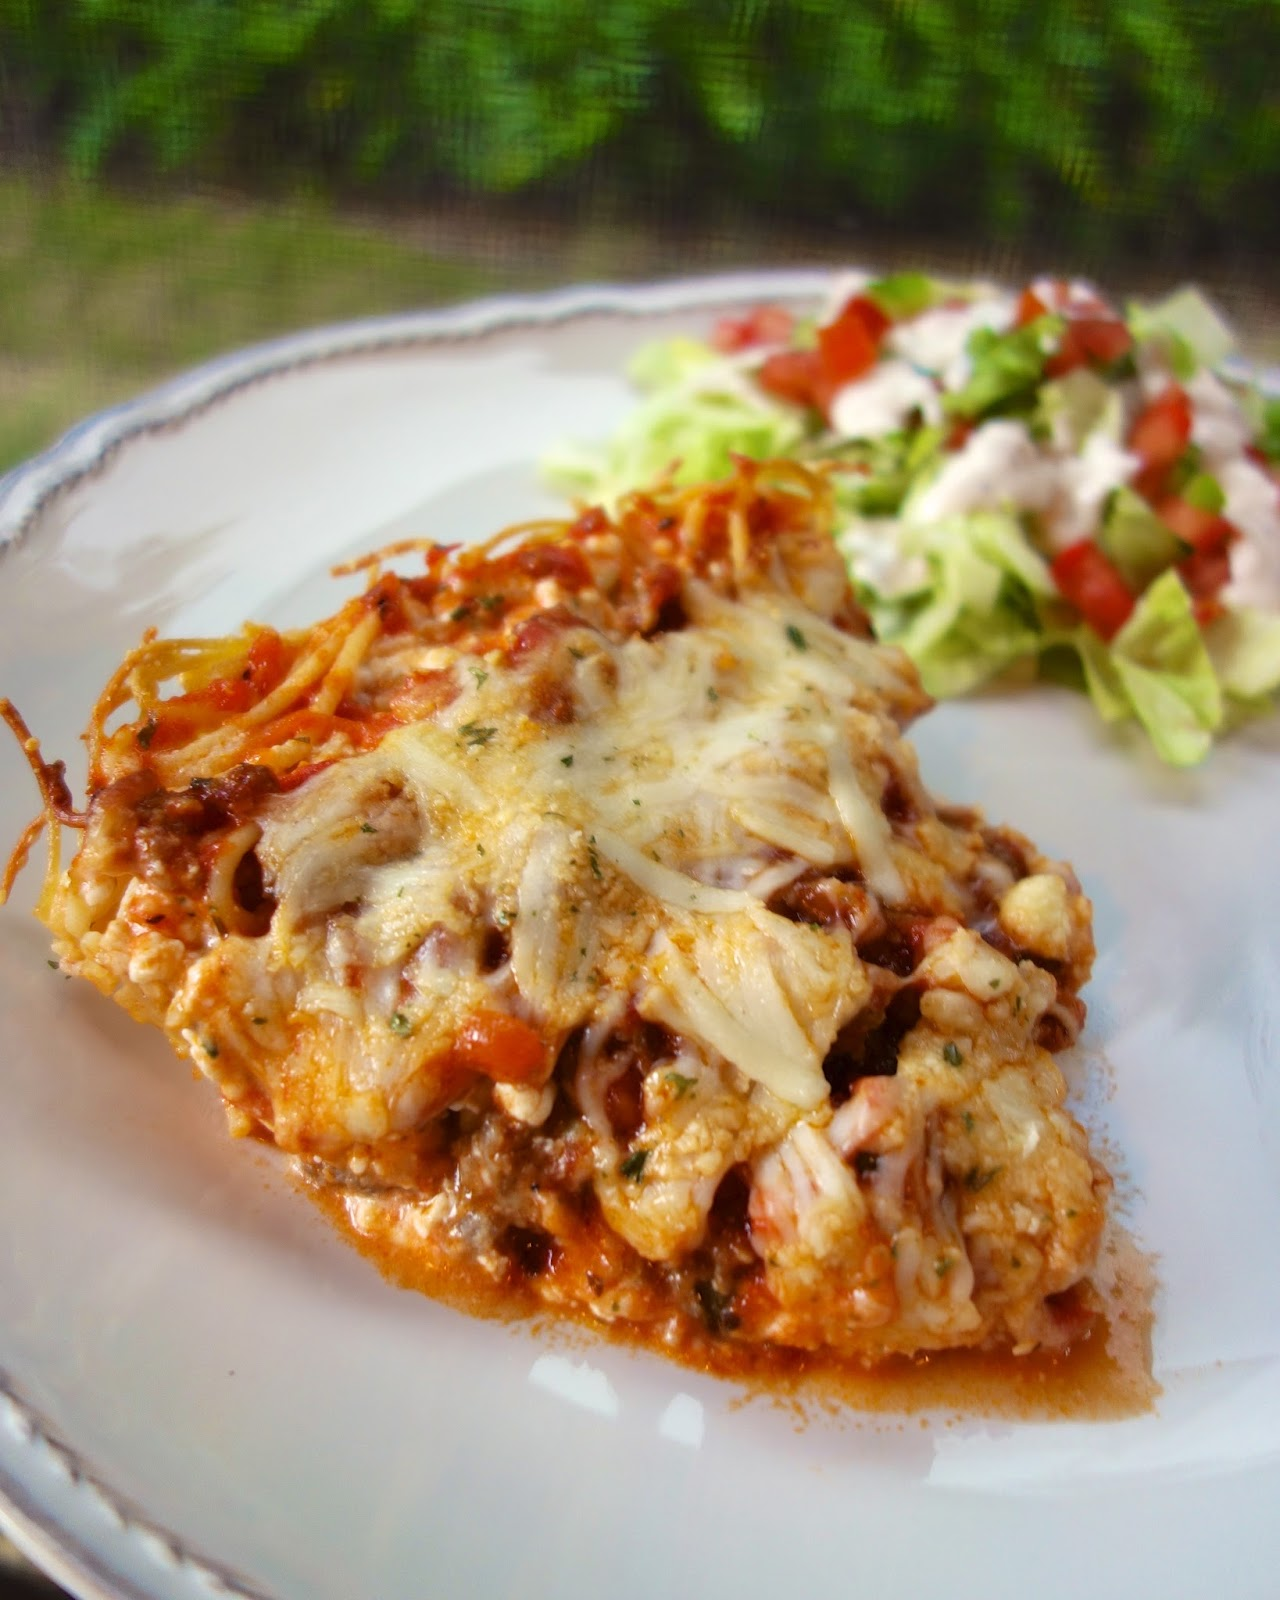chopped lettuce: (752, 310, 1240, 622)
